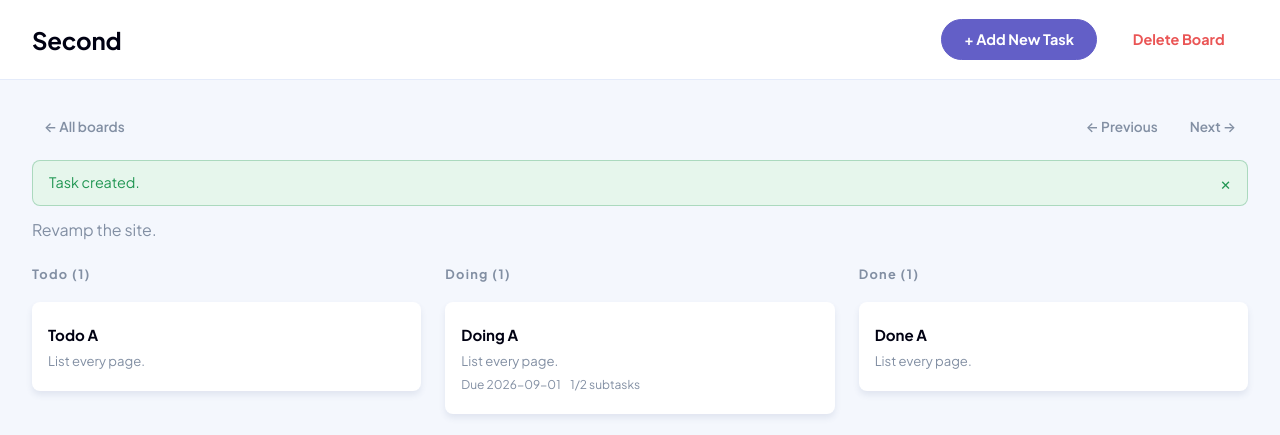
Test: BoardDetailComponent (services mocked) › feedback and states › shows a banner for ?taskSaved=created and lets the user dismiss it
Expected: the message with class "banner--success" shows "Task created.", [49,173,140,191]
Click the button with class "banner__dismiss".
click(1226, 183)  # box [1220,174,1231,192]
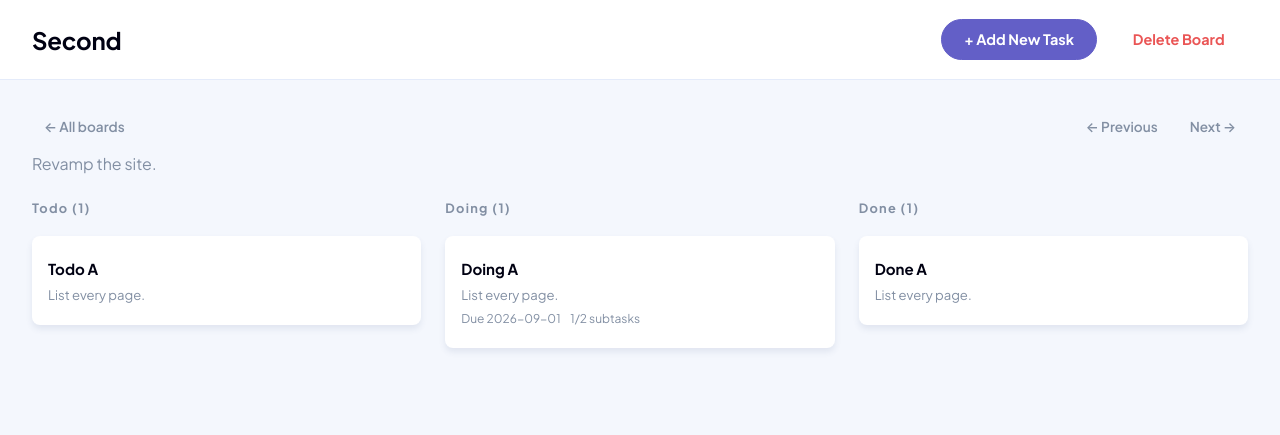
Result: the message with class "banner--success" is gone
